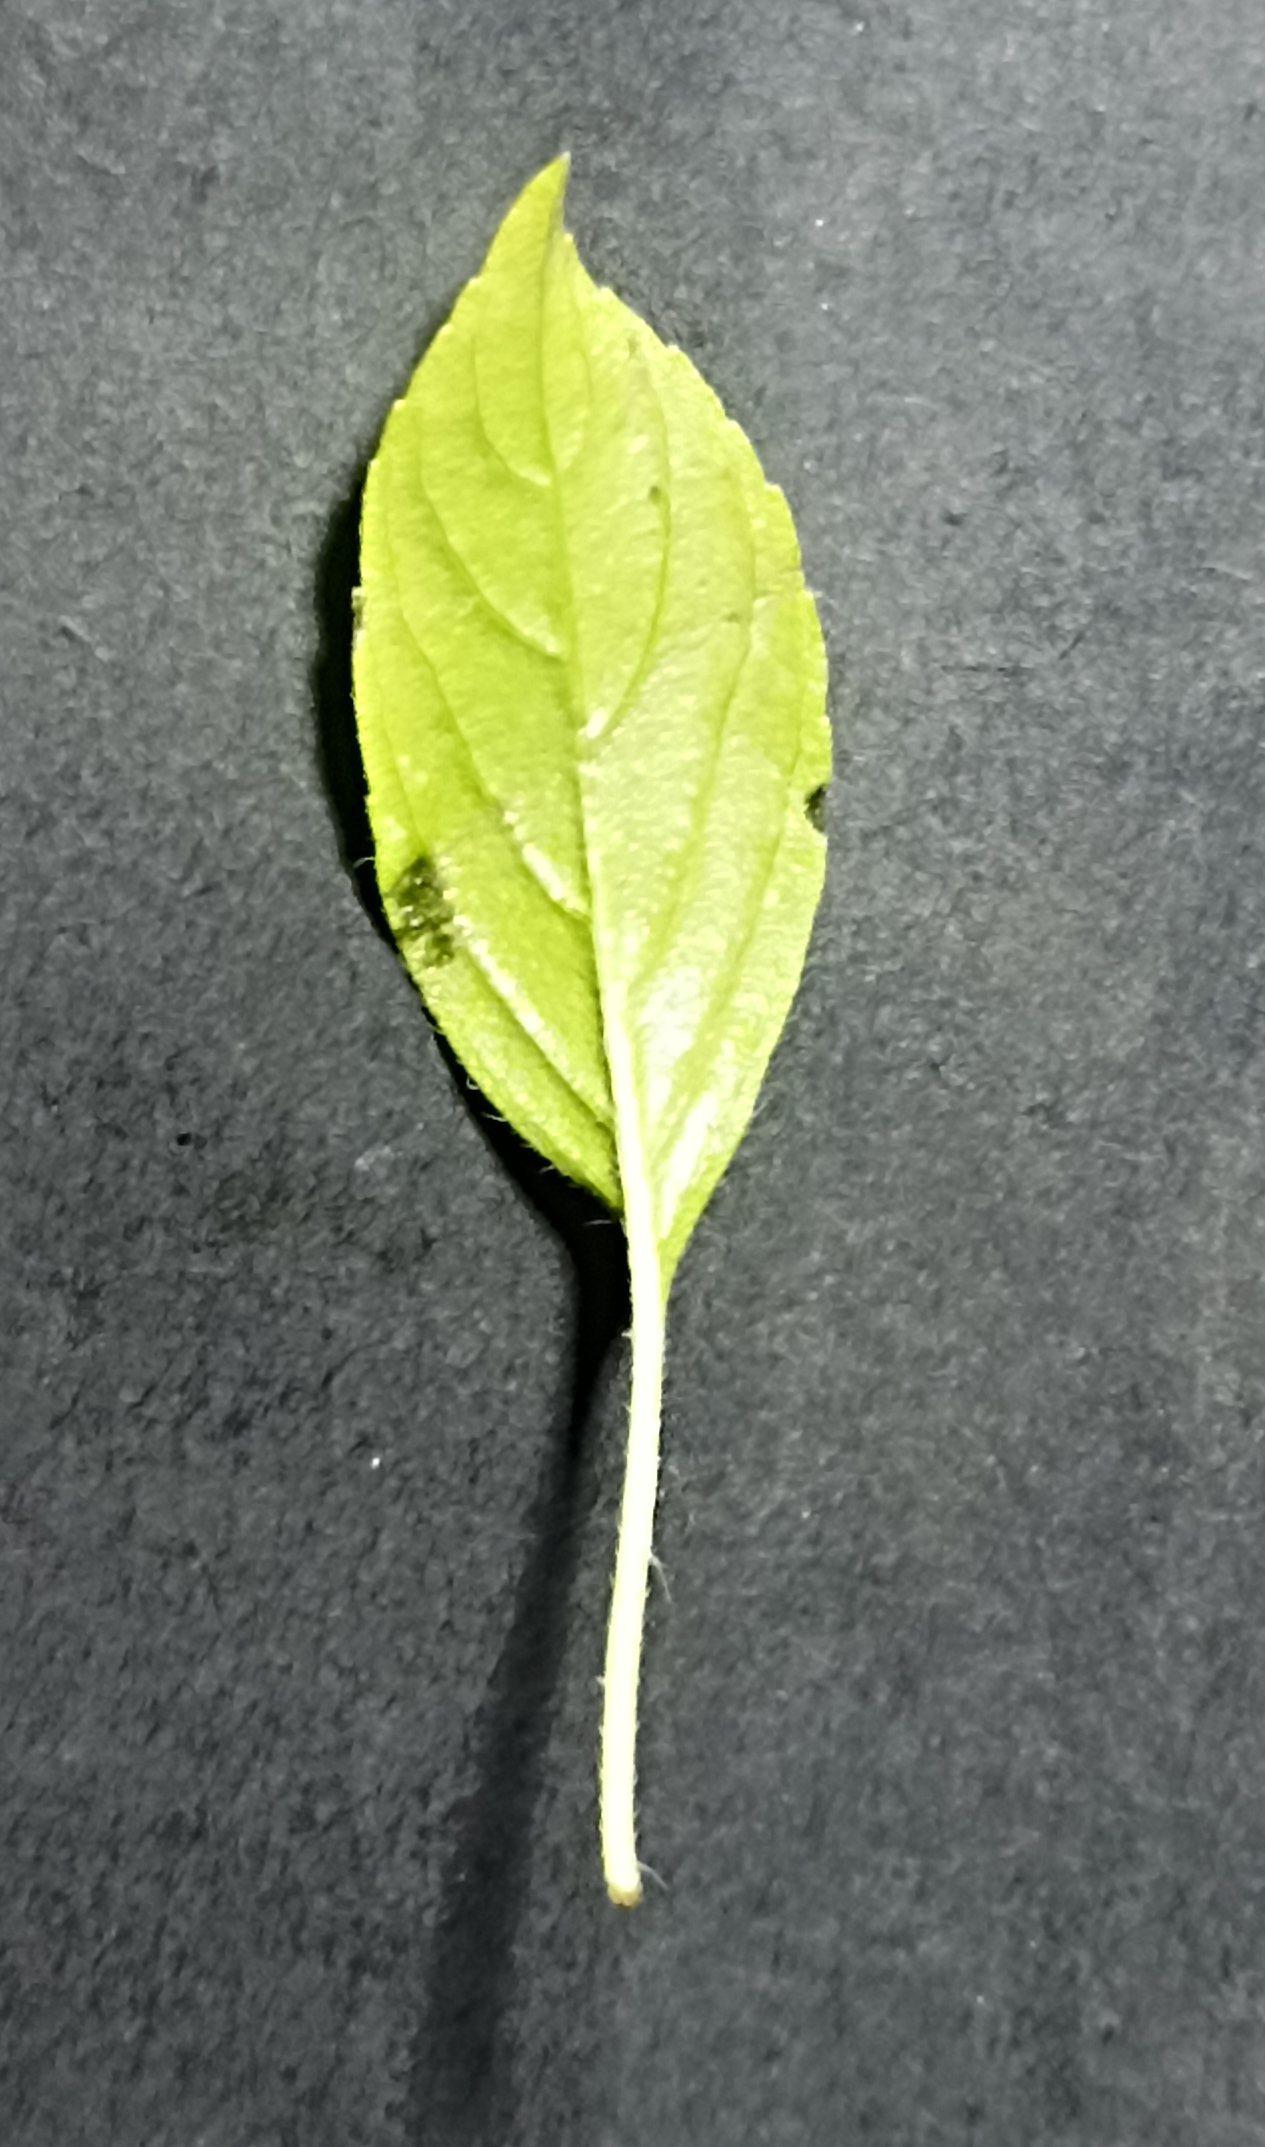Unhealthy: (309, 129, 858, 1299)
